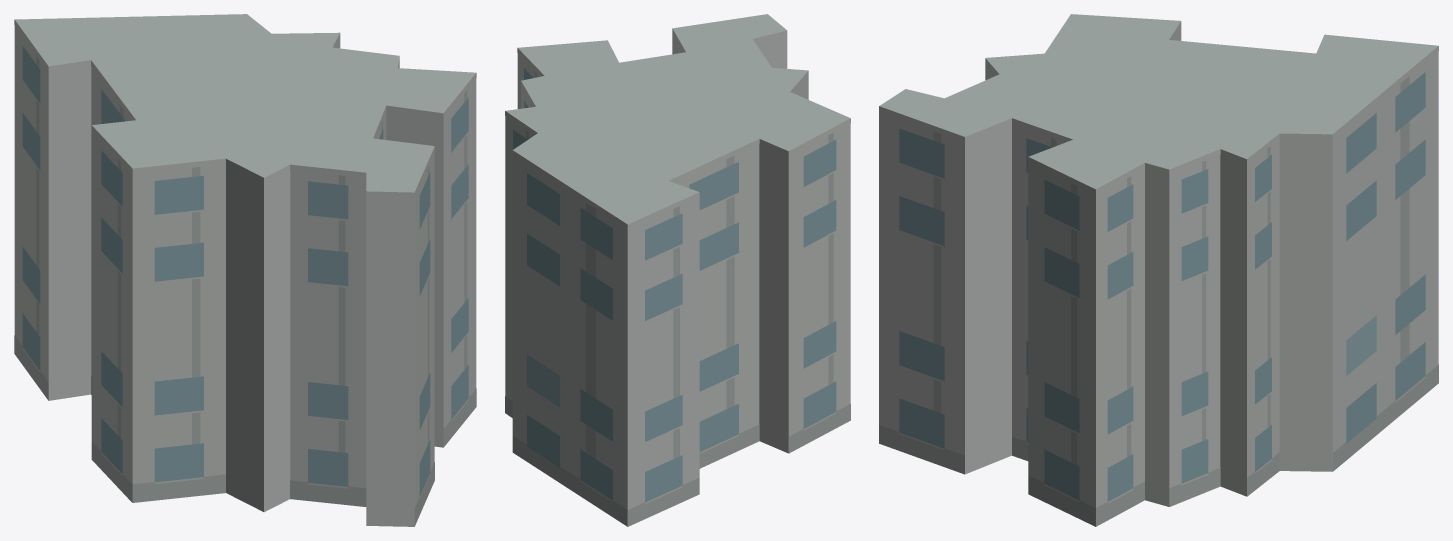
The model's file is survey-upis-32797630.glb.
The picture shows the model from 3 angles, left to right: view 1: azimuth 30°, elevation 25°; view 2: azimuth 150°, elevation 25°; view 3: azimuth 270°, elevation 25°; orthographic projection. The views are drawn at different scales.
Parts seen in each view (by area): view 1: survey-upis-32797630.tmp; view 2: survey-upis-32797630.tmp; view 3: survey-upis-32797630.tmp.
Part boxes in pixels (box(x1,y1,x2,y2)): survey-upis-32797630.tmp: box(14, 14, 476, 526); survey-upis-32797630.tmp: box(505, 14, 850, 526); survey-upis-32797630.tmp: box(879, 14, 1438, 526).
Bounding box in the file's own units: 16.06 × 14.4 × 21.65.
